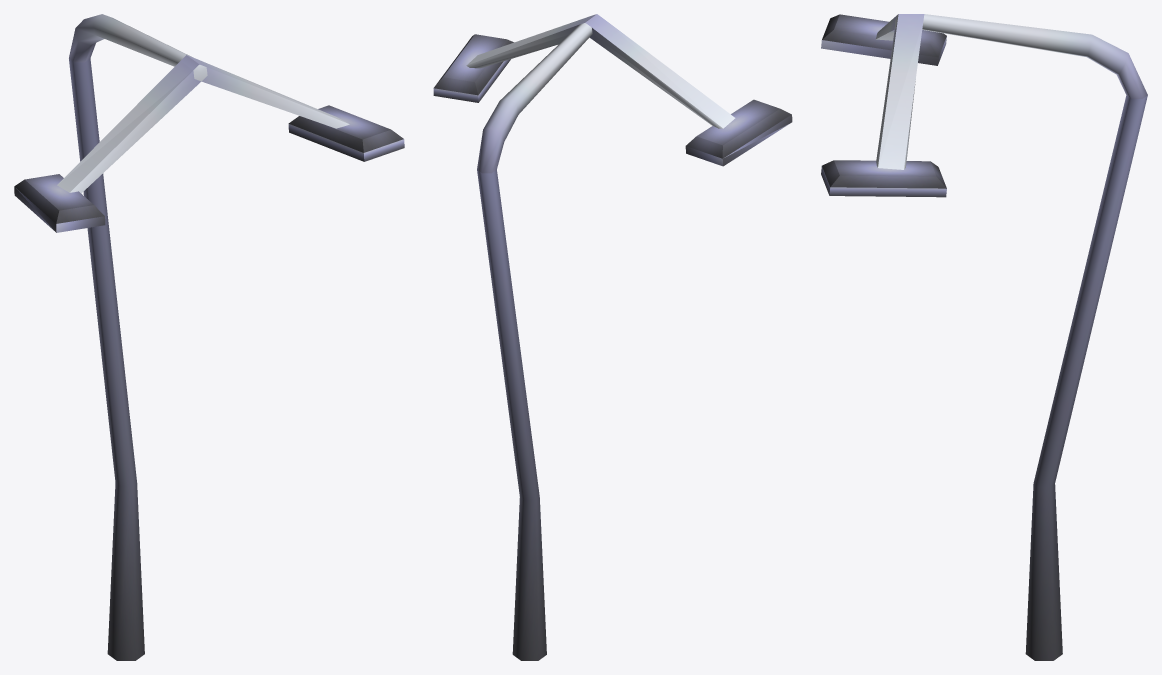
File: lamppost_body.DAE
3 renders of one model, left to right at view 1: azimuth 30°, elevation 25°; view 2: azimuth 150°, elevation 25°; view 3: azimuth 270°, elevation 25°, orthographic. The views are drawn at different scales.
Parts seen in each view (by area): view 1: Cylinder01-Pivot; view 2: Cylinder01-Pivot; view 3: Cylinder01-Pivot.
Boxes of the visible parts, bbox=[...] form: Cylinder01-Pivot: bbox=[14, 14, 404, 660]; Cylinder01-Pivot: bbox=[433, 14, 792, 660]; Cylinder01-Pivot: bbox=[821, 14, 1147, 660].
Bounding box in the file's own units: 4.48 × 7.91 × 3.66.
